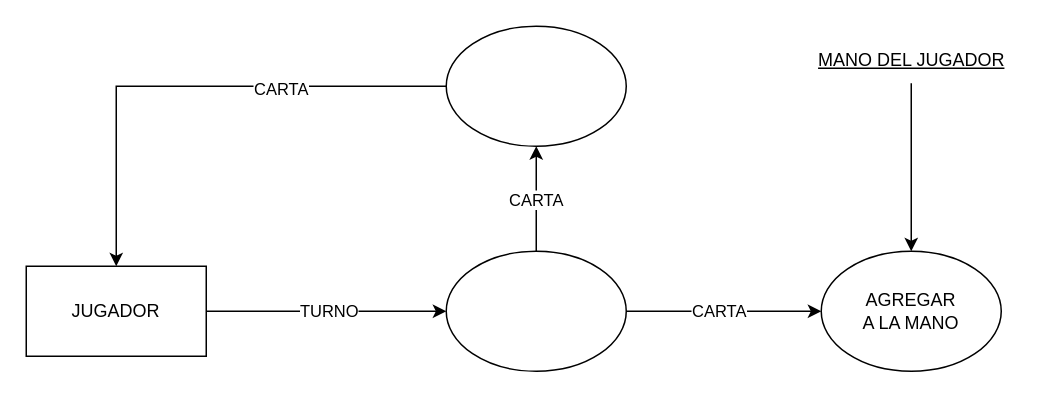
The diagram is 1050 pixels wide and 398 high, and some of its shapes have lost their labels. The shapes that lost their labels are listed below. From the top down, each one's centre as x and y in pixels, then its label:
At [535,85]: "MOSTRAR CARTA AL JUGADOR".
At [535,310]: "SACAR CARTA DEL MAZO".
